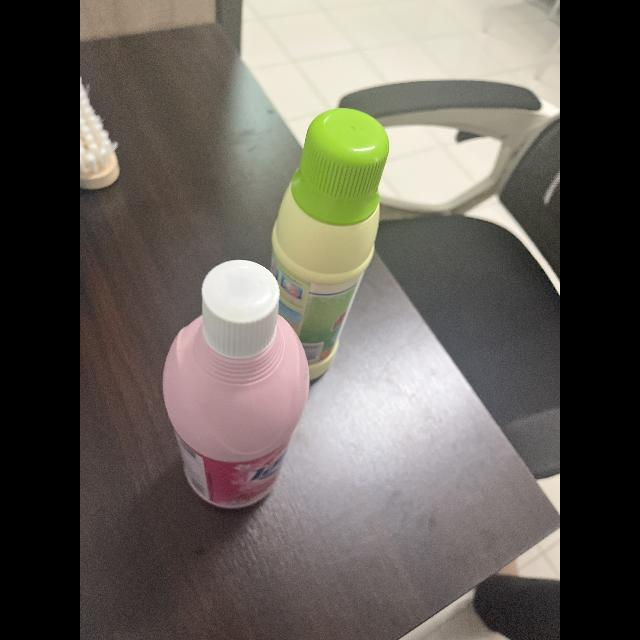chemical_plastic_bottle: (158, 254, 314, 512), (260, 104, 386, 382)
